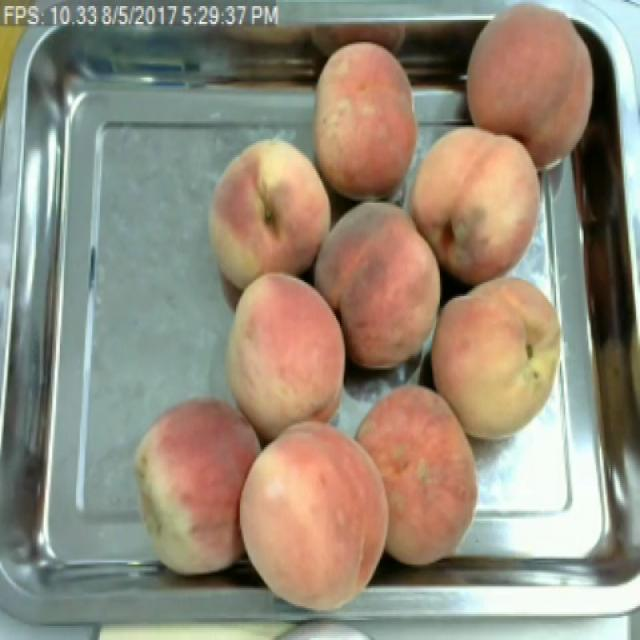Fruit: (231, 410, 397, 622), (300, 190, 455, 378), (420, 266, 579, 448), (345, 372, 491, 570), (396, 115, 556, 294), (456, 0, 608, 181), (126, 392, 266, 582), (217, 266, 356, 446), (203, 131, 340, 296), (301, 30, 428, 207)
